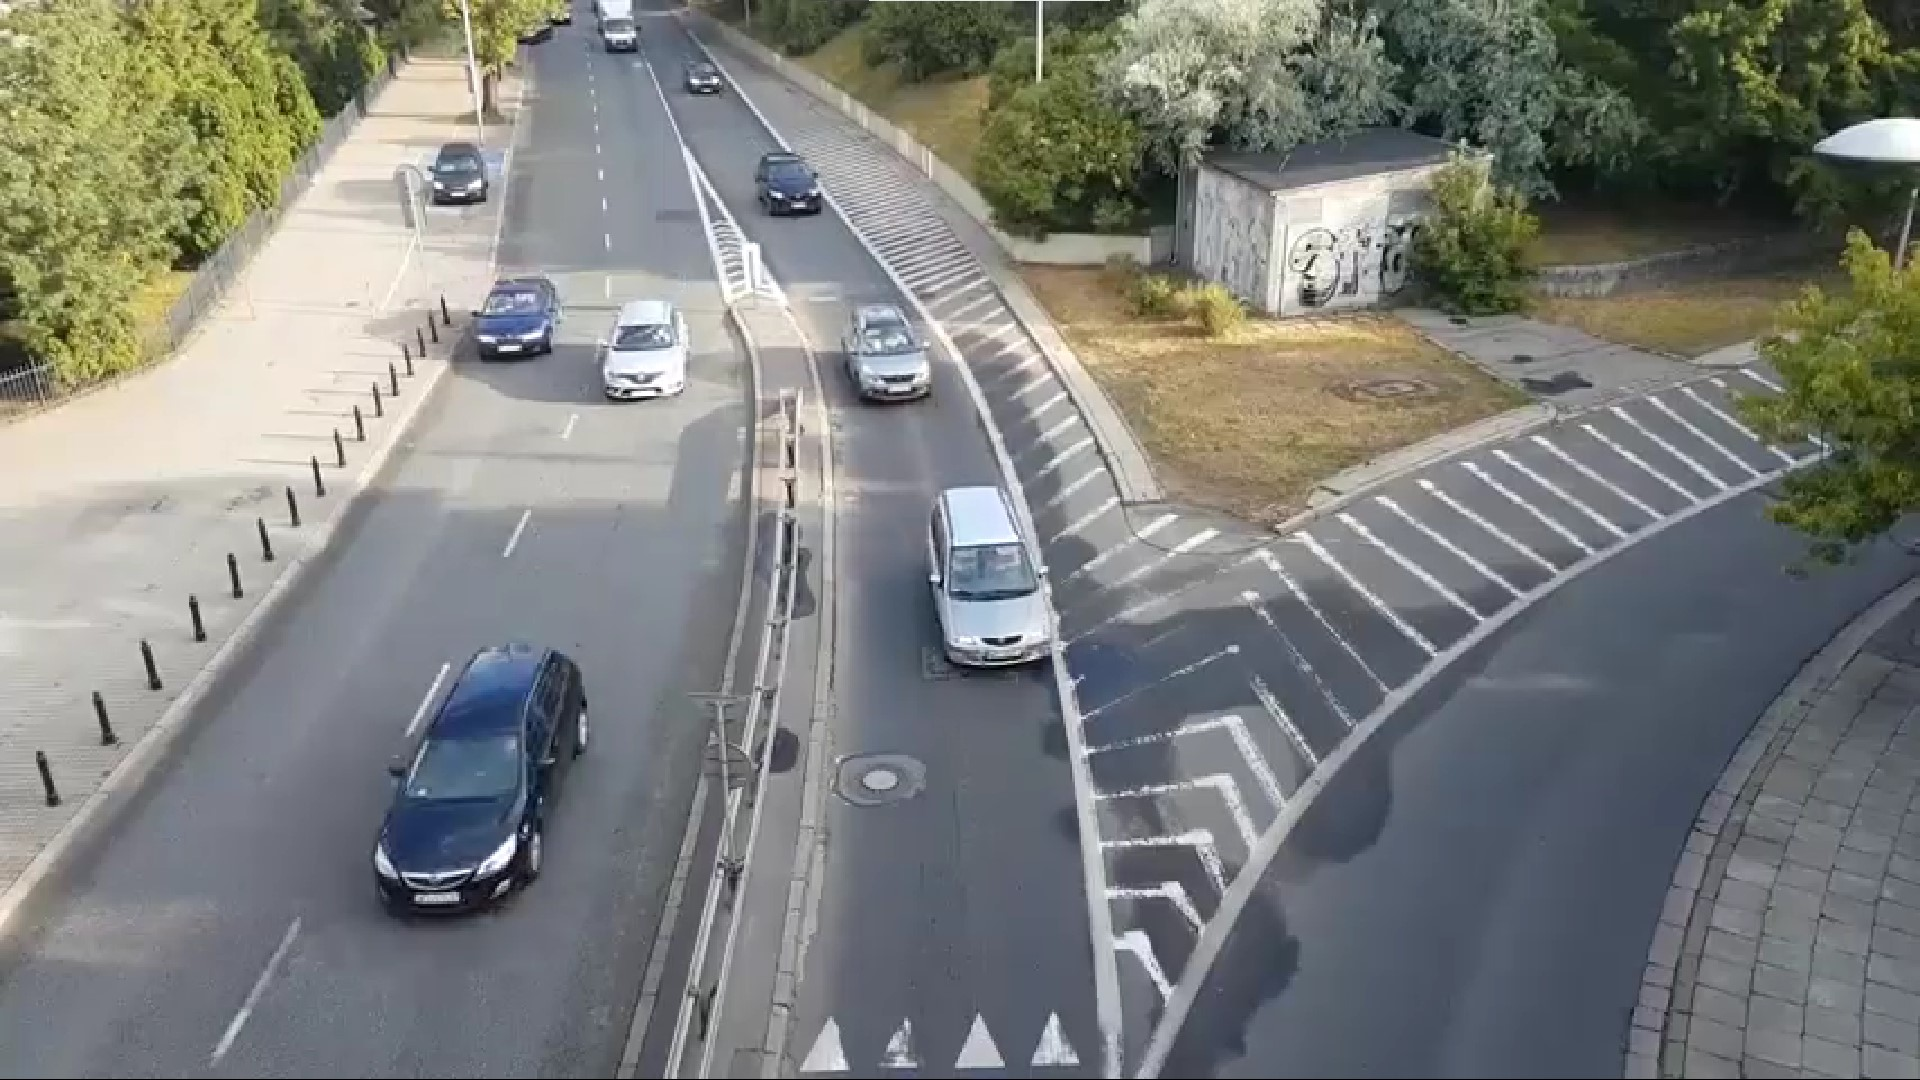mobil: (361, 637, 591, 923), (920, 479, 1062, 680), (837, 297, 939, 409), (600, 295, 688, 404), (469, 276, 564, 361), (754, 153, 827, 220), (427, 141, 491, 210), (680, 55, 724, 99)
